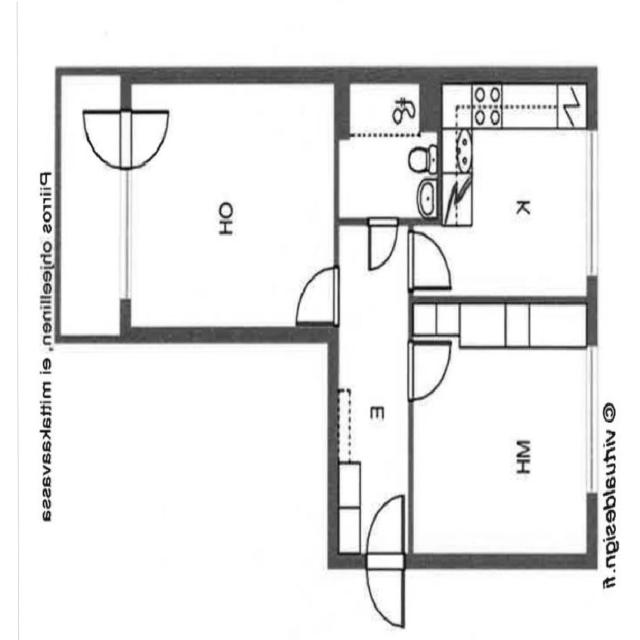door: (362, 488, 406, 632), (406, 220, 458, 292), (290, 258, 341, 325), (408, 339, 453, 401), (124, 108, 171, 167), (81, 109, 121, 168), (366, 213, 400, 274)
window: (116, 160, 135, 307), (585, 336, 600, 503), (584, 113, 598, 287)
zone: (128, 79, 338, 335), (410, 297, 596, 569), (438, 82, 596, 308), (337, 74, 445, 223), (361, 485, 408, 630)
